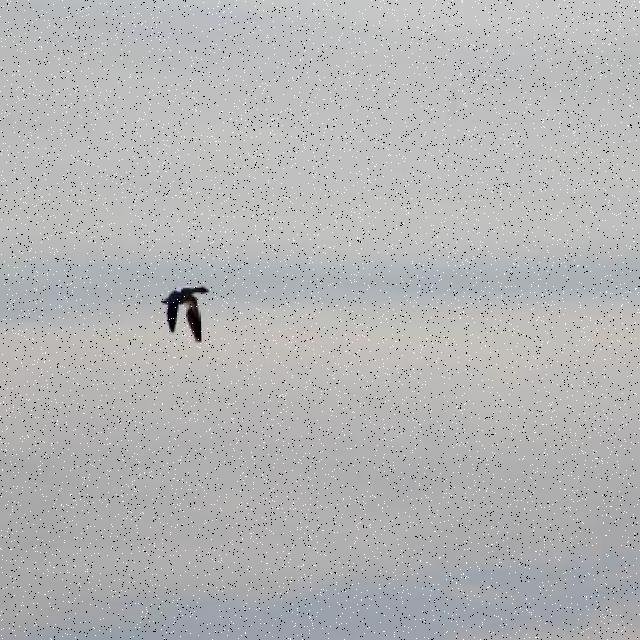bird: (160, 286, 209, 342)
